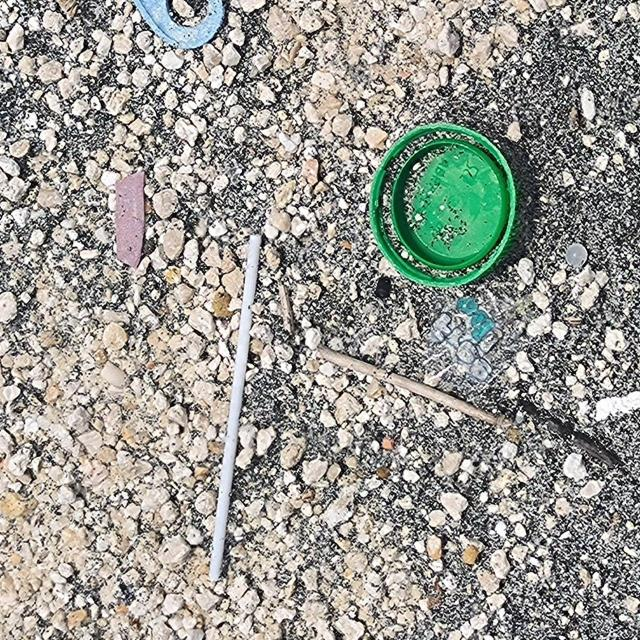plastic_waste: (371, 124, 521, 289), (206, 234, 266, 584)
